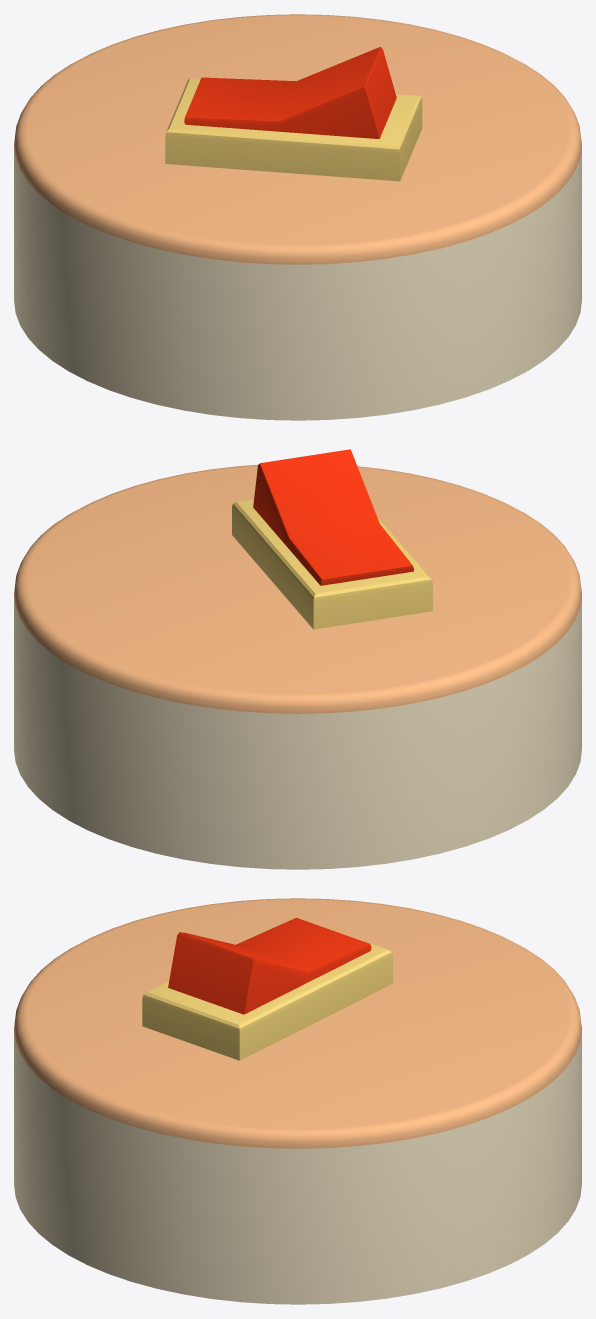
Rendered from 01_switch.FBX.
3 renders of one model, top to bottom at view 1: azimuth 30°, elevation 25°; view 2: azimuth 150°, elevation 25°; view 3: azimuth 270°, elevation 25°, orthographic.
Visible parts, largest first — view 1: Cylinder069, Box055, Box056; view 2: Cylinder069, Box055, Box056; view 3: Cylinder069, Box056, Box055.
Part boxes in pixels (x1=…): Cylinder069: x1=14, y1=14, x2=581, y2=420; Box055: x1=184, y1=47, x2=396, y2=139; Box056: x1=165, y1=78, x2=422, y2=181; Cylinder069: x1=14, y1=464, x2=581, y2=869; Box055: x1=253, y1=449, x2=413, y2=585; Box056: x1=232, y1=499, x2=432, y2=629; Cylinder069: x1=14, y1=898, x2=581, y2=1304; Box056: x1=142, y1=917, x2=392, y2=1060; Box055: x1=168, y1=917, x2=371, y2=1014.
Bounding box in the file's own units: 113 × 55.92 × 113.
3 materials, 1 textured.
